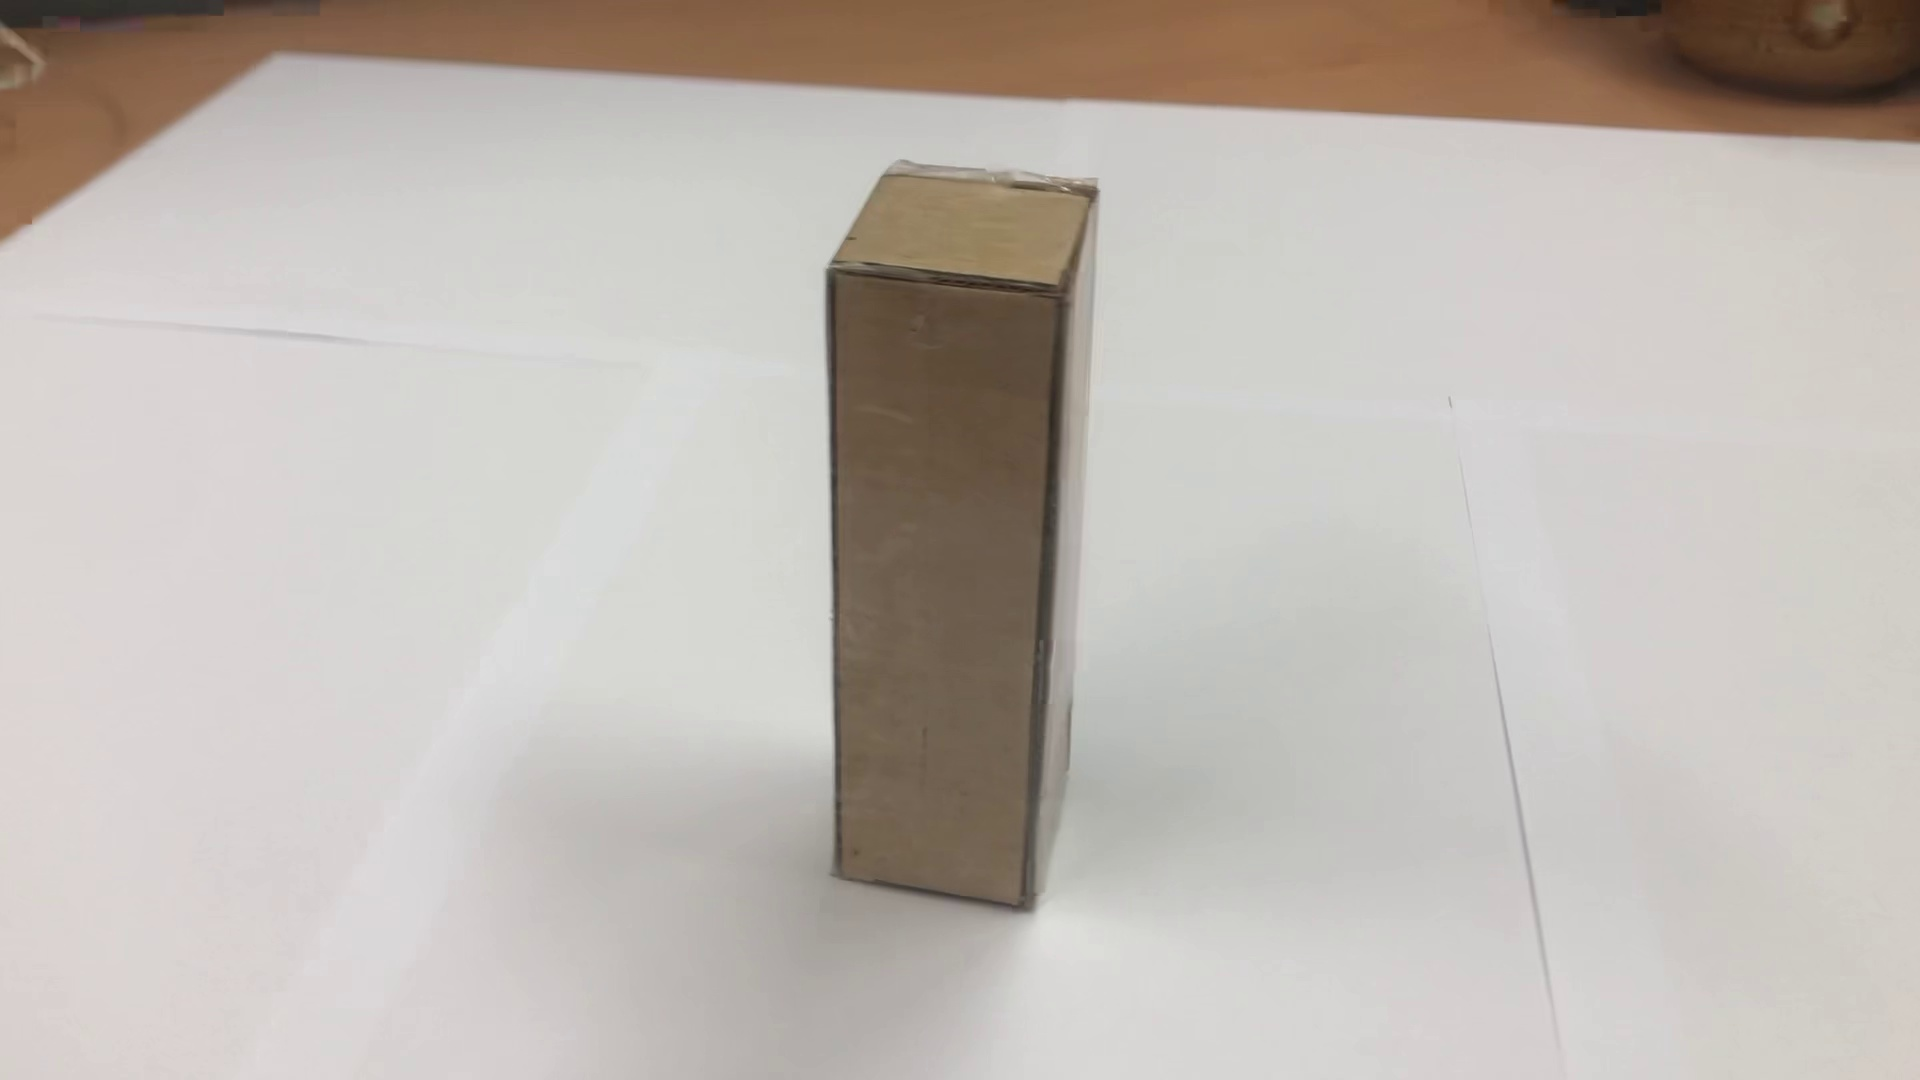box: (764, 138, 1143, 956)
